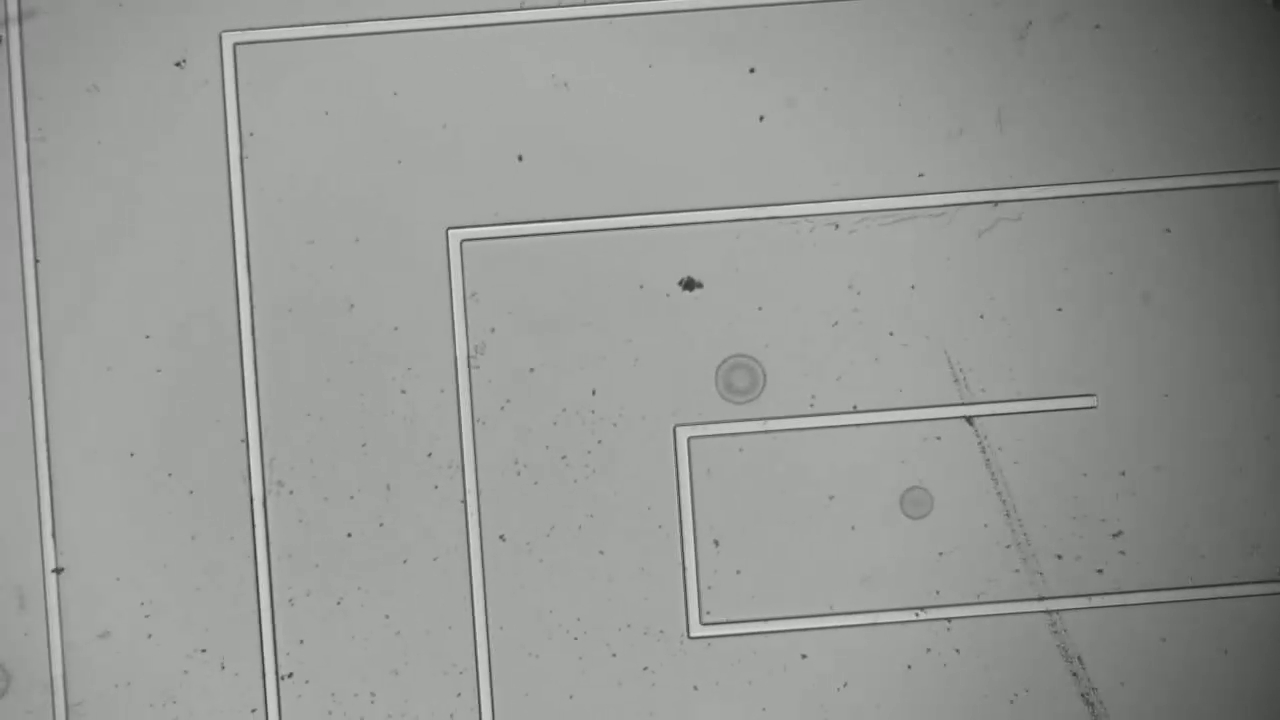scratch: (938, 358, 1112, 712)
stains_enbedded: (34, 559, 69, 586)
